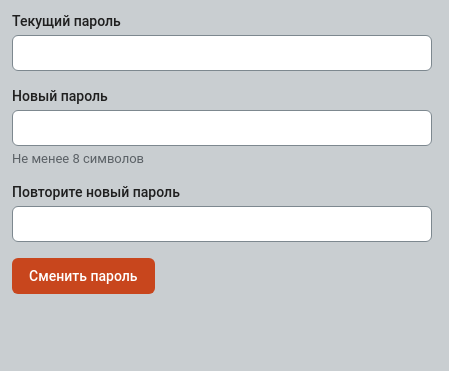
PasswordChangeForm › сбой сети — общее сообщение, форма остаётся заполненной
This screenshot has width=449, height=371.
In the password field labelled "Текущий пароль": (222, 53) [12,35,432,71], type "student112"
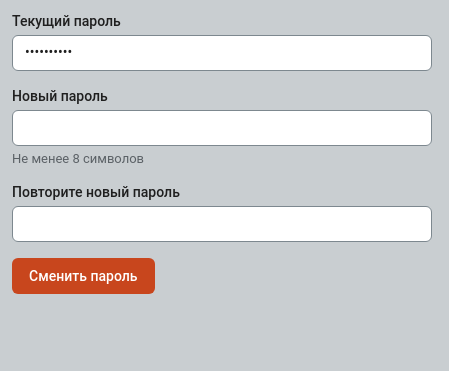
In the password field labelled "Новый пароль": (222, 128) [12,110,432,146], type "новый-пароль-42"
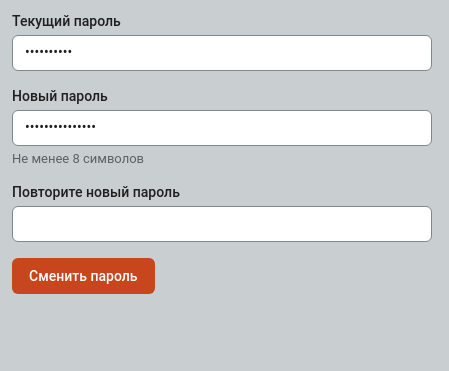
In the password field labelled "Повторите новый пароль": (222, 224) [12,206,432,242], type "новый-пароль-42"
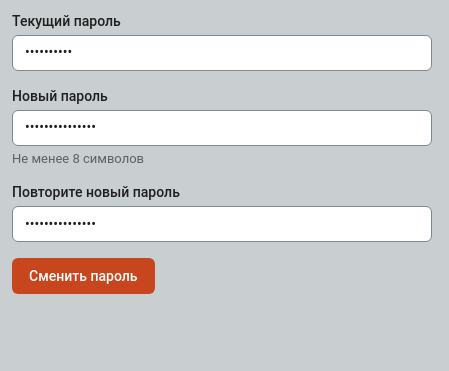
Click the button "Сменить пароль": (83, 276) [12,258,154,294]
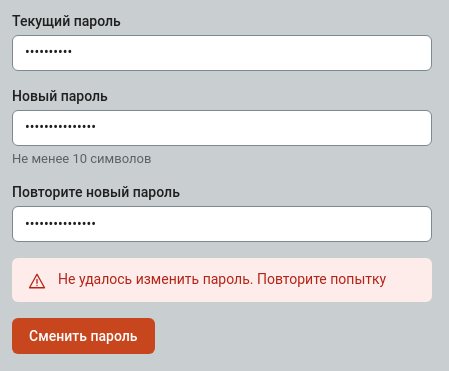
Now the message shows "Не удалось изменить пароль", box [58,271,386,287]
